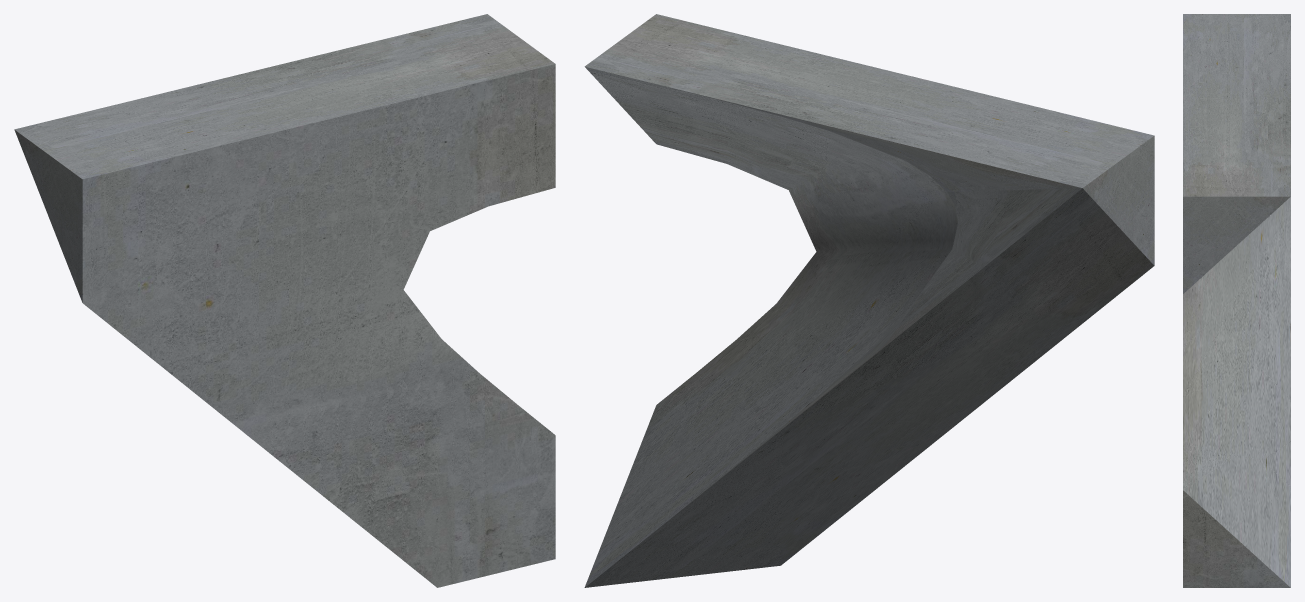
The model's file is module_F1.fbx.
The picture shows the model from 3 angles, left to right: view 1: azimuth 30°, elevation 25°; view 2: azimuth 150°, elevation 25°; view 3: azimuth 270°, elevation 25°; orthographic projection. The views are drawn at different scales.
Visible parts, largest first — view 1: modules; view 2: modules; view 3: modules.
Part boxes in pixels (bbox=[...]): modules: bbox=[14, 14, 555, 587]; modules: bbox=[584, 14, 1154, 587]; modules: bbox=[1183, 14, 1290, 587].
Size of the model in its own units: 1000 by 250 by 1000.
Materials: 1 (1 with a texture image).
